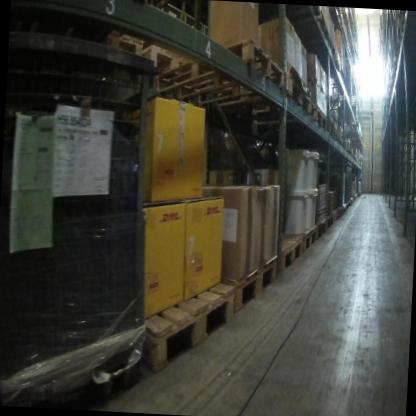pallet: (0, 312, 148, 411), (148, 29, 287, 114), (131, 271, 236, 377), (56, 10, 147, 90), (214, 61, 315, 128), (217, 252, 280, 320), (137, 37, 201, 87), (137, 0, 208, 44), (264, 227, 304, 279), (286, 7, 329, 44), (294, 103, 329, 141), (283, 221, 315, 260), (307, 27, 337, 60), (319, 116, 339, 146), (201, 18, 221, 47), (317, 214, 335, 245), (310, 218, 327, 246), (336, 199, 353, 220), (324, 207, 342, 226), (332, 132, 345, 151), (351, 187, 364, 206)
stillage: (329, 159, 349, 205), (340, 150, 352, 198)
